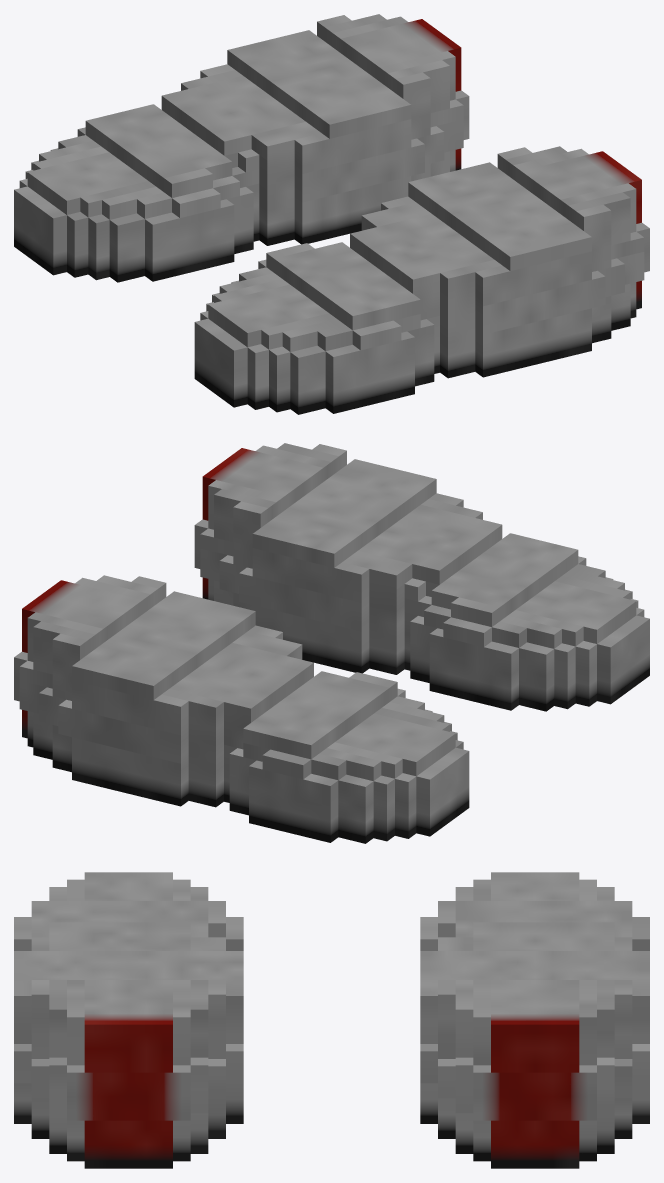
File: SmallObject_Shoes.fbx
3 renders of one model, top to bottom at view 1: azimuth 30°, elevation 25°; view 2: azimuth 150°, elevation 25°; view 3: azimuth 270°, elevation 25°, orthographic. The views are drawn at different scales.
Visible parts, largest first — view 1: Shoes; view 2: Shoes; view 3: Shoes.
Part boxes in pixels (x1,y1,x2,y2): Shoes: (14,14,649,414); Shoes: (14,443,649,843); Shoes: (14,872,649,1168).
Size of the model in its own units: 30 by 9 by 36.
